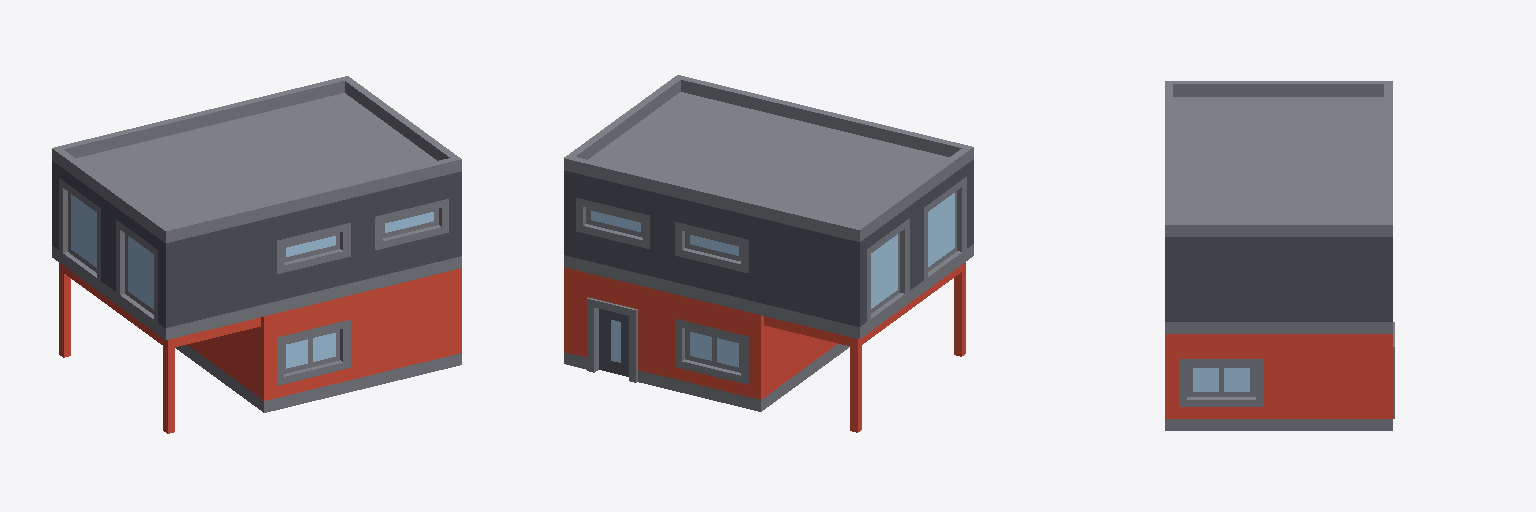
File: city_house_o.obj
The picture shows the model from 3 angles: view 1: azimuth 30°, elevation 25°; view 2: azimuth 150°, elevation 25°; view 3: azimuth 270°, elevation 25°; orthographic projection.
Visible parts, largest first — view 1: mergedBlocks; view 2: mergedBlocks; view 3: mergedBlocks.
Part boxes in pixels (left/top/right/bottom): mergedBlocks: left=52, top=76, right=461, bottom=433; mergedBlocks: left=564, top=75, right=973, bottom=432; mergedBlocks: left=1165, top=81, right=1394, bottom=430.
Size of the model in its own units: 0.768 by 0.51 by 0.5184.